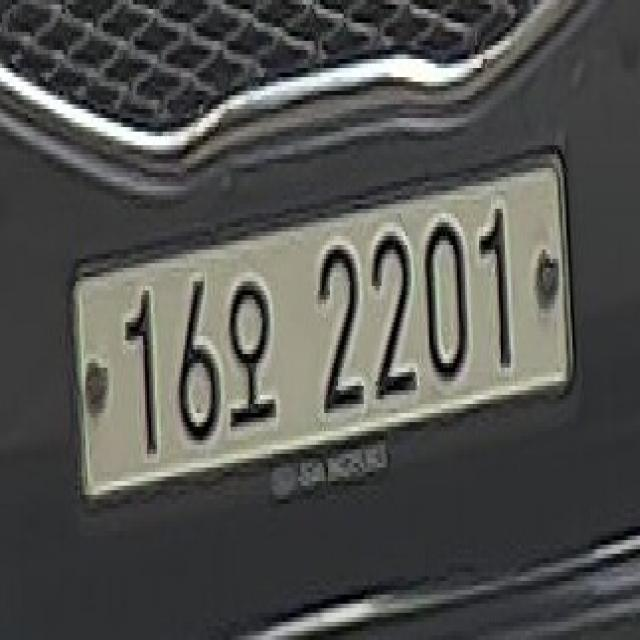0: (419, 196, 473, 390)
1: (117, 268, 167, 472), (475, 186, 521, 381)
2: (368, 209, 417, 408), (316, 227, 366, 422)
6: (169, 259, 225, 458)
license_plate: (65, 132, 580, 549)
o: (227, 268, 280, 445)
